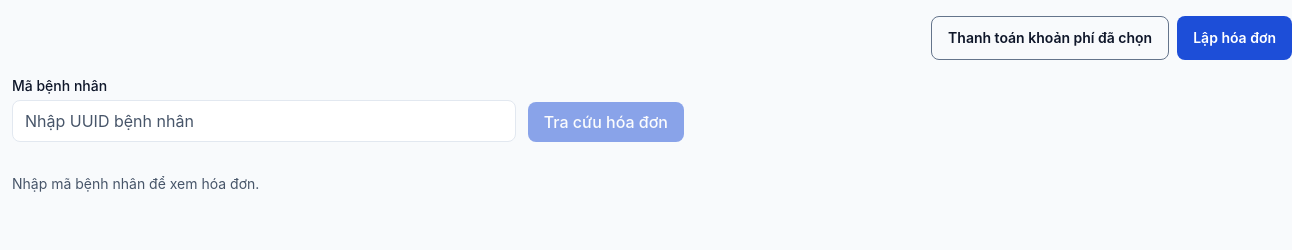
Test: InvoiceLookup › retries the failed query and renders an empty result
Type "00000000-0000-4000-8000-000000000001" into the field labelled "Mã bệnh nhân".
click(264, 121); type("00000000-0000-4000-8000-000000000001")  # box [12,100,516,142]
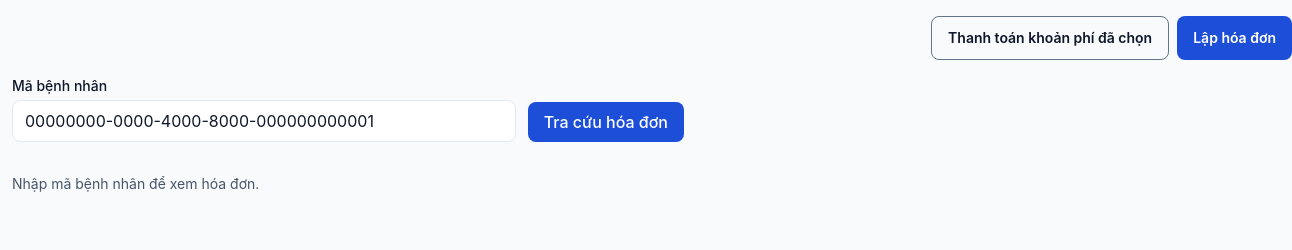
Click the button "Tra cứu hóa đơn".
click(606, 122)  # box [528,102,684,142]
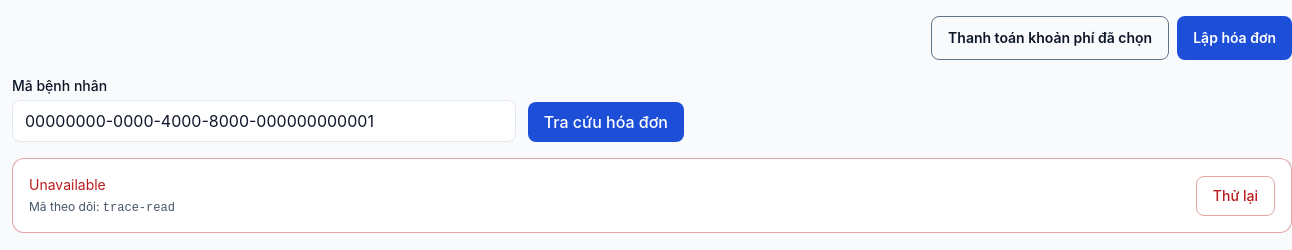
Check: the text "trace-read" is shown, box [103,201,175,215]
Click the button "Thử lại".
click(1235, 196)  # box [1196,176,1275,216]
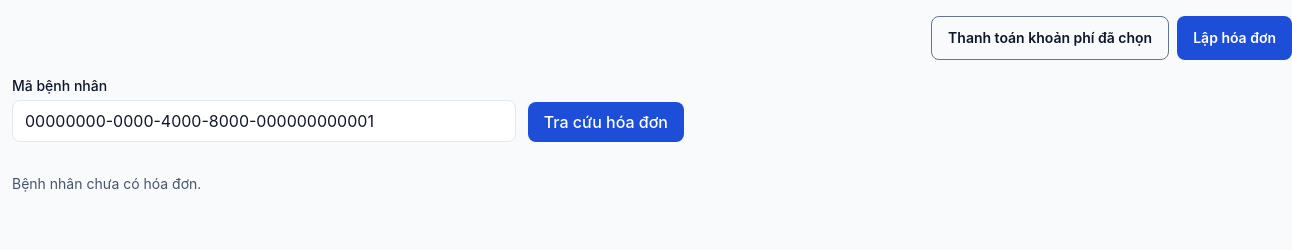
Check: the text "Bệnh nhân chưa có hóa đơn." is shown, box [12,175,201,192]
